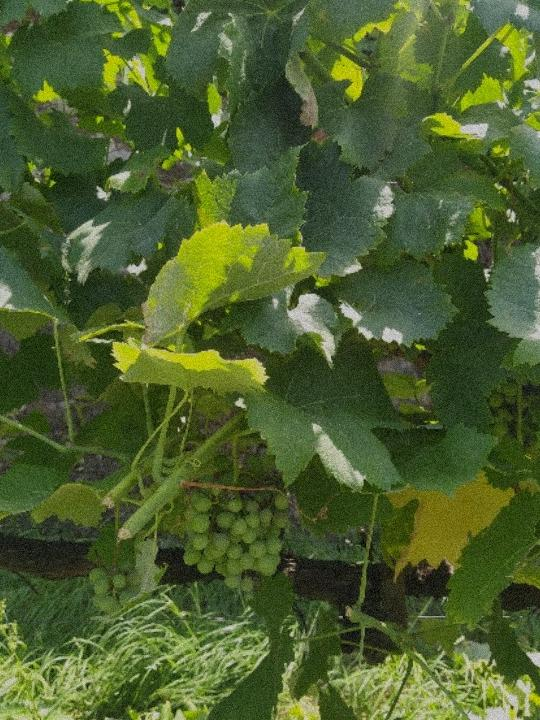grape: (183, 450, 292, 603)
